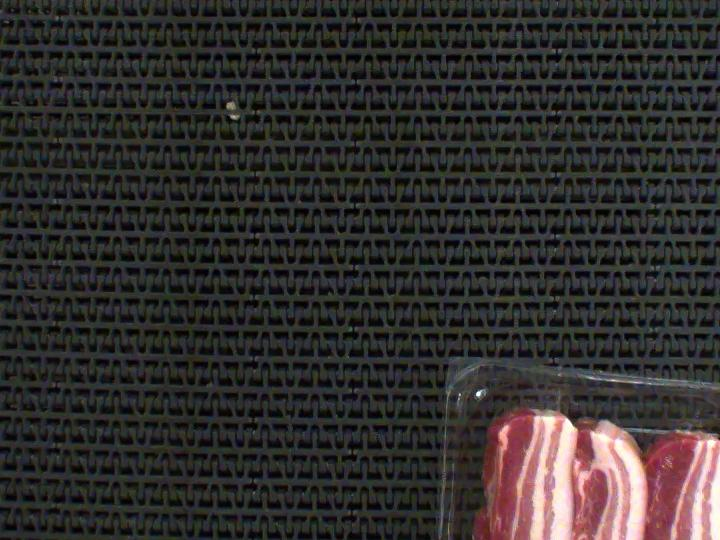packaging-error: (534, 377, 577, 423)
